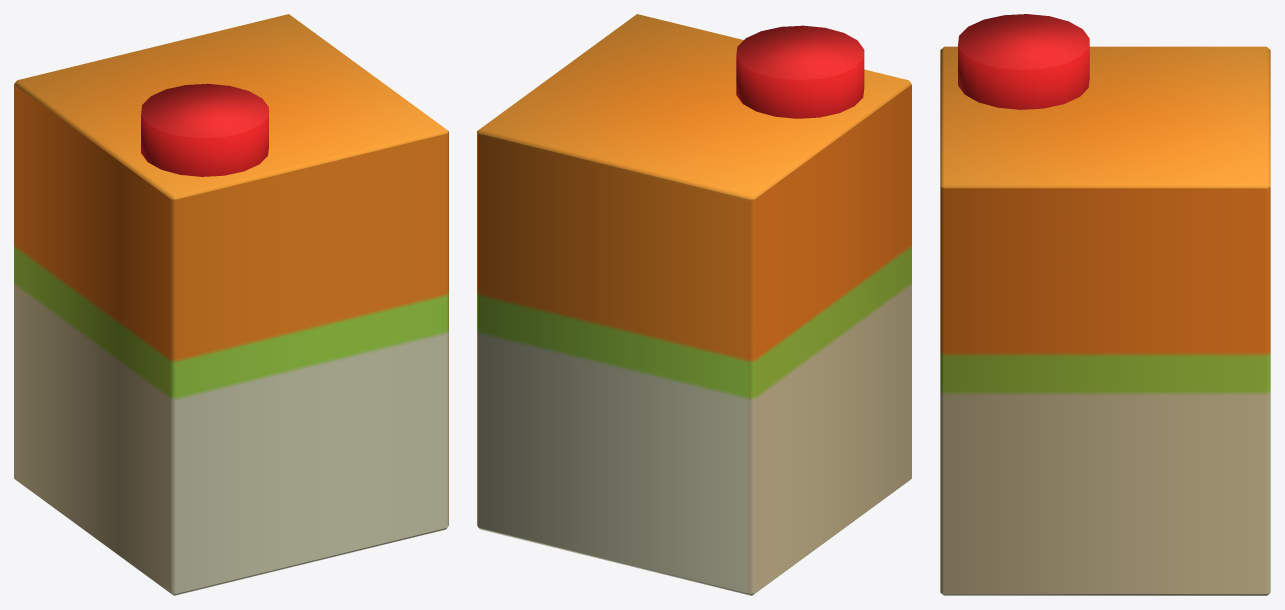
File: juice.FBX
The picture shows the model from 3 angles, left to right: view 1: azimuth 30°, elevation 25°; view 2: azimuth 150°, elevation 25°; view 3: azimuth 270°, elevation 25°; orthographic projection. The views are drawn at different scales.
Visible parts, largest first — view 1: juice; view 2: juice; view 3: juice.
Part boxes in pixels (<box>): juice: <box>14,14,448,595</box>; juice: <box>477,14,911,595</box>; juice: <box>940,14,1270,595</box>.
Size of the model in its own units: 21.63 by 32.67 by 21.63.
